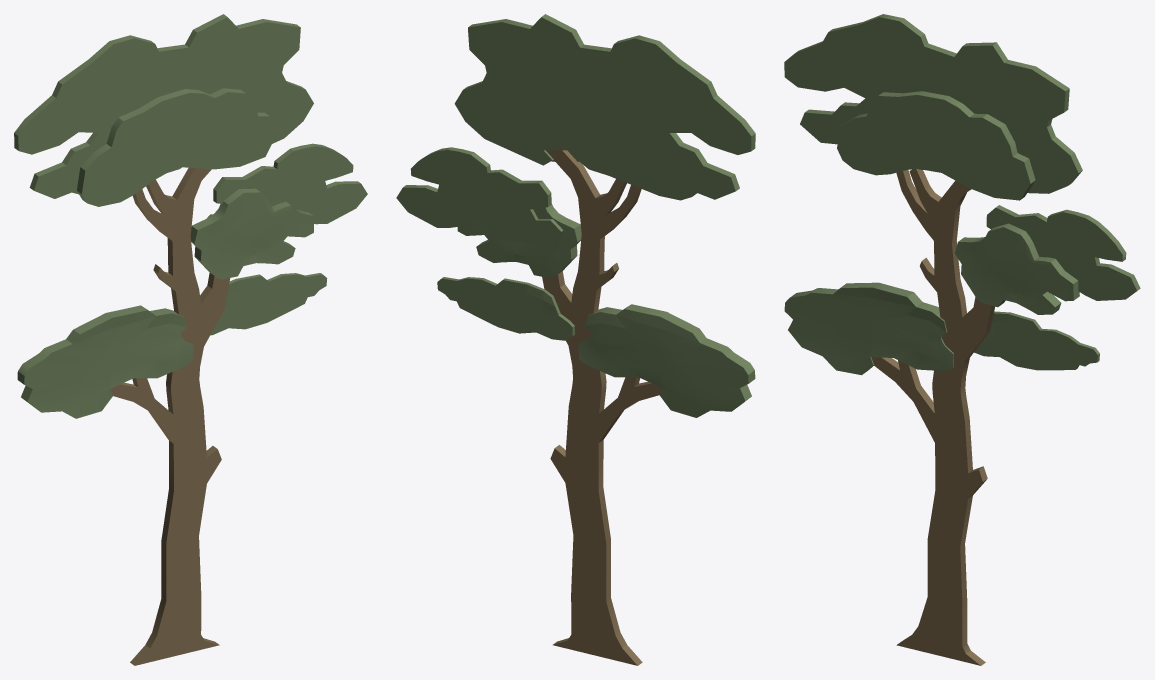
Rendered from MenuTree2.fbx.
3 views of the same model, side by side, from view 1: azimuth 30°, elevation 25°; view 2: azimuth 150°, elevation 25°; view 3: azimuth 330°, elevation 25° (orthographic).
Visible parts, largest first — view 1: MenuTree2; view 2: MenuTree2; view 3: MenuTree2.
Part boxes in pixels (x1=…): MenuTree2: x1=14, y1=14, x2=367, y2=665; MenuTree2: x1=396, y1=14, x2=755, y2=665; MenuTree2: x1=784, y1=14, x2=1140, y2=665.
Bounding box in the file's own units: 1.39 × 2.36 × 0.0771.
